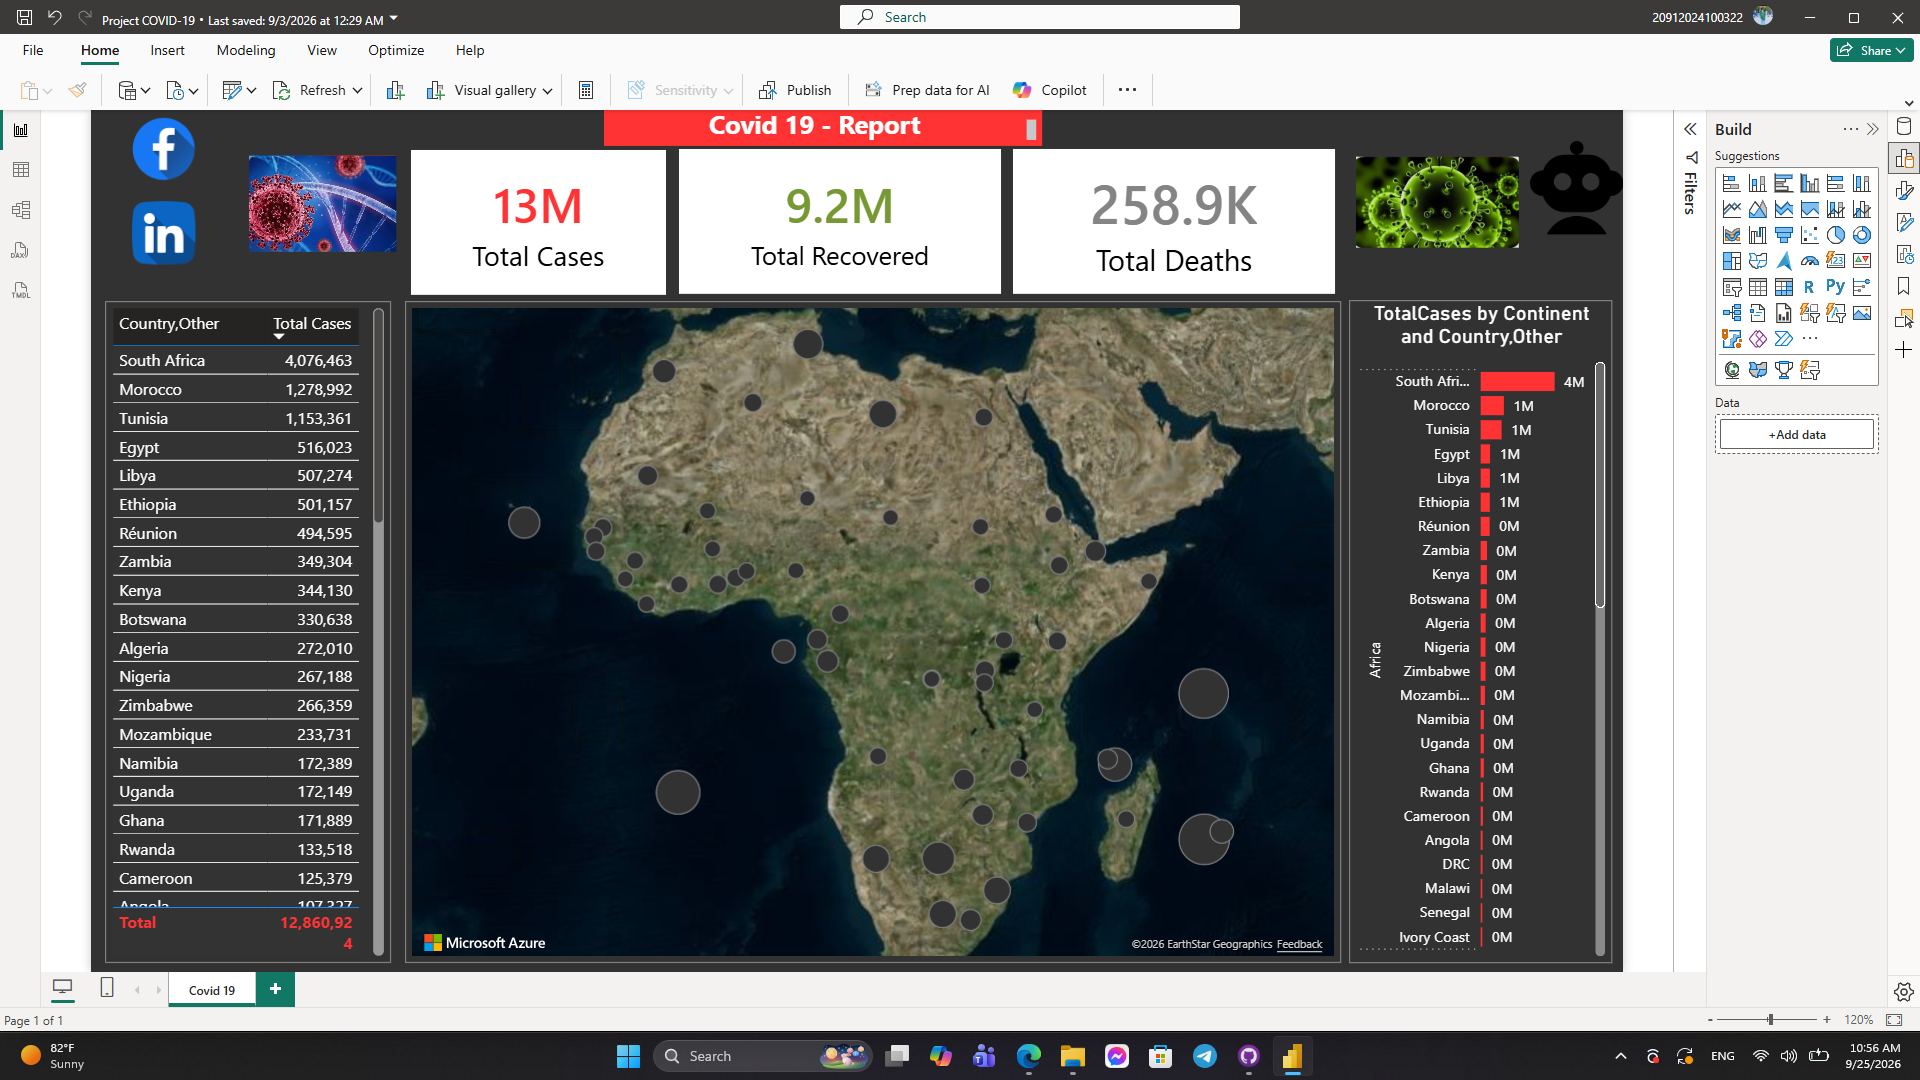

Layout of this report page (visuals, bound fields, positions):
{"tool":"powerbi","page":{"name":"Covid 19","canvas":[1280,720],"ordinal":0},"visuals":[{"type":"azureMap","fields":{"Category":["Table 1.Country,Other"],"Size":["Sum(Table 1.Tot Cases/1M pop)"]},"box":[262.5,159.6,782.1,553.3],"z":0},{"type":"cardVisual","fields":{"Data":["Sum(Table 1.TotalCases)"]},"box":[262.5,28.4,223.4,131.2],"z":1000},{"type":"cardVisual","fields":{"Data":["Sum(Table 1.TotalRecovered)"]},"box":[485.9,27.5,279.3,131.2],"z":2000},{"type":"cardVisual","fields":{"Data":["Sum(Table 1.TotalDeaths)"]},"box":[765.2,27.5,279.3,131.2],"z":3000},{"type":"tableEx","fields":{"Values":["Table 1.Country,Other","Sum(Table 1.TotalCases)"]},"box":[11.5,159.6,239.4,553.3],"z":4000},{"type":"clusteredBarChart","fields":{"Category":["Table 1.Continent","Table 1.Country,Other"],"Y":["Sum(Table 1.TotalCases)"]},"box":[1050.7,158.7,219.9,554.2],"z":5000},{"type":"textbox","box":[428.3,0,365.9,30.2],"z":6000},{"type":"image","box":[131.6,37.6,123.3,80.7],"z":7000},{"type":"image","box":[1056.7,0,135.7,154.3],"z":8000},{"type":"image","box":[34.3,0,53.4,65.5],"z":8002},{"type":"image","box":[34.3,70.6,53.4,65.5],"z":8003},{"type":"image","box":[1202.4,21.3,78,87.8],"z":8004}]}

Visuals, with their boxes on the page's 1280x720 design canvas (x1, y1, x2, y2). These are canvas units, not pixel positions in the 1920x1080 screenshot, which may show the page scaled, cropped or inside an application window:
azureMap - Table 1.Country,Other x Sum(Table 1.Tot Cases/1M pop): locate(262, 160, 1045, 713)
cardVisual - Sum(Table 1.TotalCases): locate(262, 28, 486, 160)
cardVisual - Sum(Table 1.TotalRecovered): locate(486, 28, 765, 159)
cardVisual - Sum(Table 1.TotalDeaths): locate(765, 28, 1044, 159)
tableEx - Table 1.Country,Other x Sum(Table 1.TotalCases): locate(12, 160, 251, 713)
clusteredBarChart - Table 1.Continent x Table 1.Country,Other: locate(1051, 159, 1271, 713)
textbox: locate(428, 0, 794, 30)
image: locate(132, 38, 255, 118)
image: locate(1057, 0, 1192, 154)
image: locate(34, 0, 88, 66)
image: locate(34, 71, 88, 136)
image: locate(1202, 21, 1280, 109)
